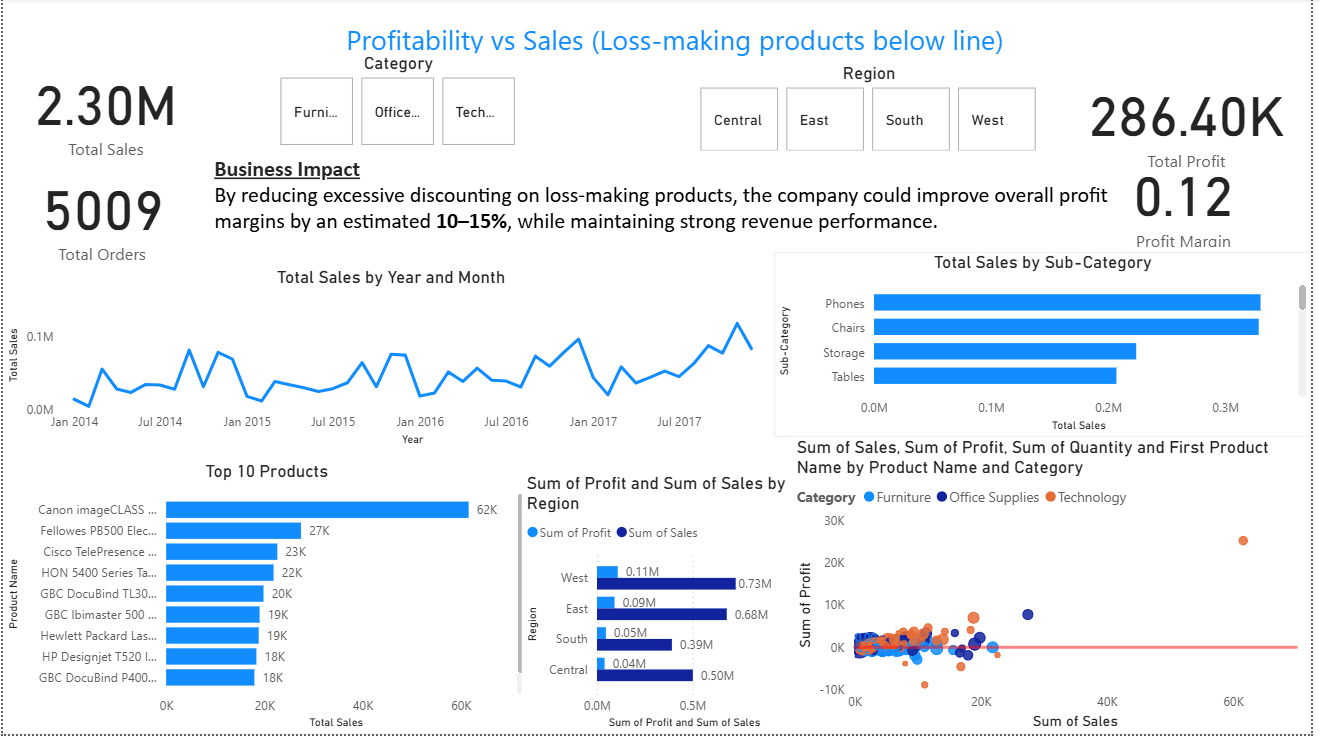

Layout of this report page (visuals, bound fields, positions):
{"tool":"powerbi","page":{"name":"Dashboard","canvas":[1280,720],"ordinal":0},"visuals":[{"type":"card","fields":{"Values":["Sample - Superstore.Total Sales"]},"box":[0,57.5,201.8,103.9],"z":0},{"type":"card","fields":{"Values":["Sample - Superstore.Profit Margin"]},"box":[1054.1,149.2,201.8,99],"z":1000},{"type":"card","fields":{"Values":["Sample - Superstore.Total Orders"]},"box":[6.1,160.2,182.2,102.7],"z":2000},{"type":"card","fields":{"Values":["Sample - Superstore.Total Profit"]},"box":[1035.7,68.5,244.6,103.9],"z":3000},{"type":"lineChart","fields":{"Y":["Sample - Superstore.Total Sales"],"Category":["Sample - Superstore.Order Date.Variation.Date Hierarchy.Year","Sample - Superstore.Order Date.Variation.Date Hierarchy.Month"]},"box":[0,262.9,759.4,179.8],"z":4000},{"type":"barChart","title":"Top 10 Products ","fields":{"Y":["Sample - Superstore.Total Sales"],"Category":["Sample - Superstore.Product Name"]},"box":[0,452,516,267.8],"z":5000},{"type":"barChart","fields":{"Y":["Sample - Superstore.Total Sales"],"Category":["Sample - Superstore.Sub-Category"]},"box":[754.5,248.2,525.8,181],"z":6000},{"type":"clusteredBarChart","fields":{"Category":["Sample - Superstore.Region"],"Y":["Sum(Sample - Superstore.Profit)","Sum(Sample - Superstore.Sales)"]},"box":[507.5,464.7,264.1,255.6],"z":7000},{"type":"scatterChart","fields":{"Y":["Sum(Sample - Superstore.Profit)"],"X":["Sum(Sample - Superstore.Sales)"],"Series":["Sample - Superstore.Category"],"Category":["Sample - Superstore.Product Name"],"Size":["Sum(Sample - Superstore.Quantity)"]},"box":[771.6,429.2,508.7,291],"z":8000},{"type":"textbox","box":[58.7,0,1197.2,68.5],"z":9000},{"type":"advancedSlicerVisual","fields":{"Values":["Sample - Superstore.Region"]},"box":[677.4,63.6,339.9,91.7],"z":10000},{"type":"advancedSlicerVisual","fields":{"Values":["Sample - Superstore.Category"]},"box":[266.6,53.8,240.9,95.4],"z":11000},{"type":"textbox","box":[201.8,149.2,896.3,99],"z":11001}]}

Visuals, with their boxes in screenshot pixels (x1, y1, x2, y2), scaled from the page's 1280x720 canvas onto the 1320x740 screenshot:
card - Sample - Superstore.Total Sales: x1=0, y1=59, x2=208, y2=166
card - Sample - Superstore.Profit Margin: x1=1087, y1=153, x2=1295, y2=255
card - Sample - Superstore.Total Orders: x1=6, y1=165, x2=194, y2=270
card - Sample - Superstore.Total Profit: x1=1068, y1=70, x2=1319, y2=177
lineChart - Sample - Superstore.Total Sales x Sample - Superstore.Order Date.Variation.Date Hierarchy.Year: x1=0, y1=270, x2=783, y2=455
"Top 10 Products " barChart: x1=0, y1=465, x2=532, y2=739
barChart - Sample - Superstore.Total Sales x Sample - Superstore.Sub-Category: x1=778, y1=255, x2=1319, y2=441
clusteredBarChart - Sample - Superstore.Region x Sum(Sample - Superstore.Profit): x1=523, y1=478, x2=796, y2=739
scatterChart - Sum(Sample - Superstore.Profit) x Sum(Sample - Superstore.Sales): x1=796, y1=441, x2=1319, y2=739
textbox: x1=61, y1=0, x2=1295, y2=70
advancedSlicerVisual - Sample - Superstore.Region: x1=699, y1=65, x2=1049, y2=160
advancedSlicerVisual - Sample - Superstore.Category: x1=275, y1=55, x2=523, y2=153
textbox: x1=208, y1=153, x2=1132, y2=255
